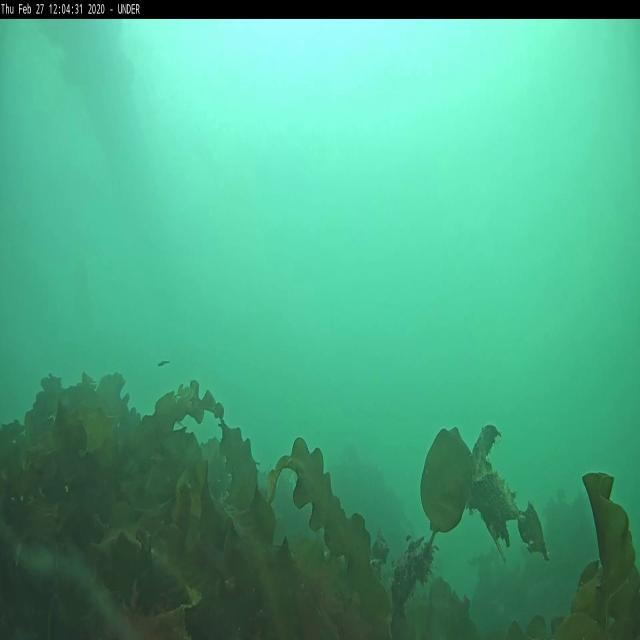fish: (154, 358, 170, 370)
